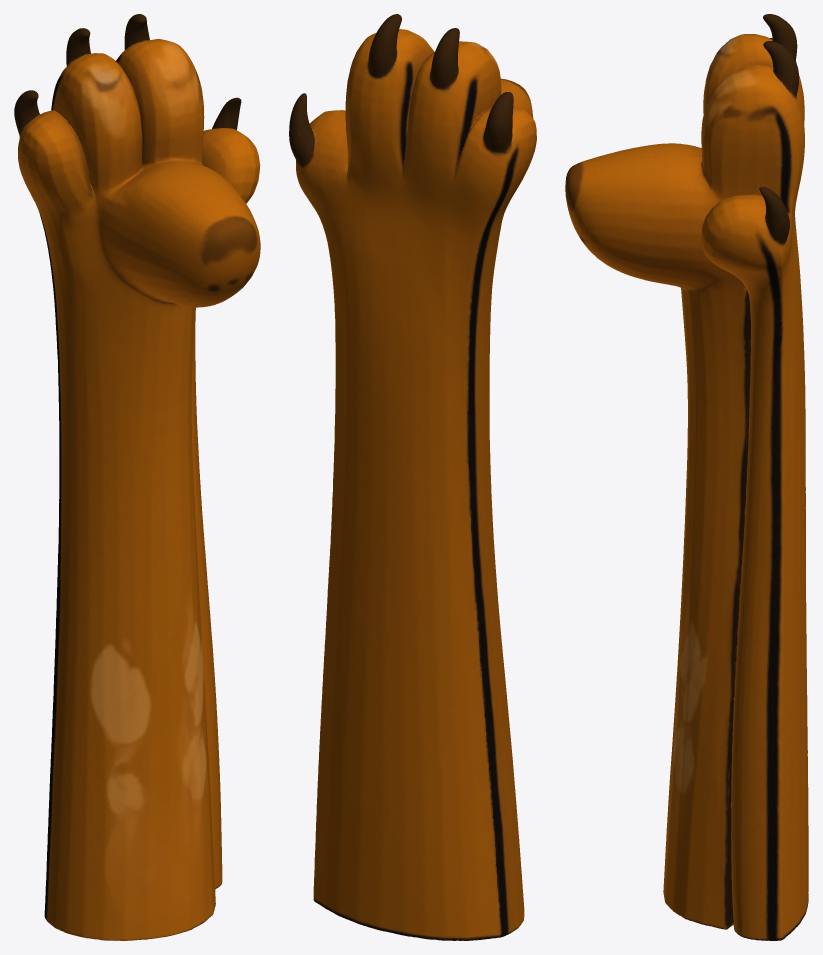
Rendered from paw.glb.
3 views of the same model, side by side, from view 1: azimuth 30°, elevation 25°; view 2: azimuth 150°, elevation 25°; view 3: azimuth 270°, elevation 25° (orthographic). The views are drawn at different scales.
Parts seen in each view (by area): view 1: world; view 2: world; view 3: world.
Part boxes in pixels (box(x1,y1,x2,y2)): world: box(14, 14, 260, 940); world: box(289, 14, 536, 940); world: box(565, 14, 808, 940).
Bounding box in the file's own units: 0.2668 × 1 × 0.2553.
Materials: 1 (1 with a texture image).
